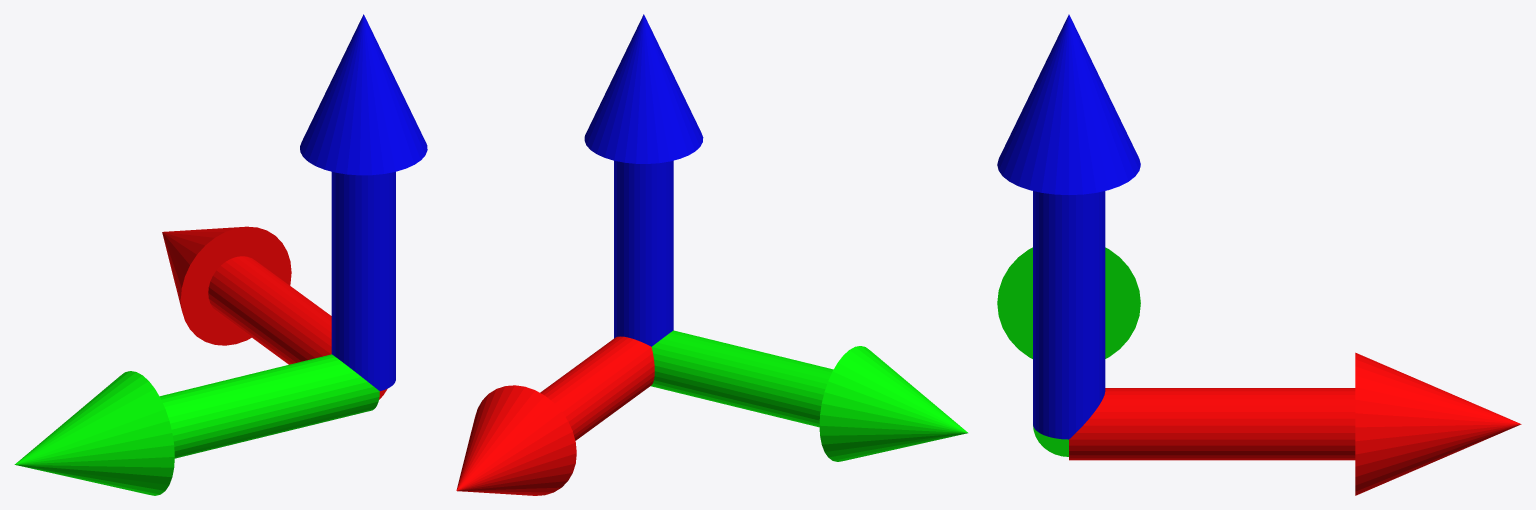
File: axis.obj
The picture shows the model from 3 angles, left to right: view 1: azimuth 30°, elevation 25°; view 2: azimuth 150°, elevation 25°; view 3: azimuth 270°, elevation 25°; orthographic projection. The views are drawn at different scales.
Visible parts, largest first — view 1: Cylinder.002_Cylinder.003; view 2: Cylinder.002_Cylinder.003; view 3: Cylinder.002_Cylinder.003.
Boxes of the visible parts, x1=… form: Cylinder.002_Cylinder.003: x1=14, y1=14, x2=427, y2=495; Cylinder.002_Cylinder.003: x1=456, y1=14, x2=967, y2=495; Cylinder.002_Cylinder.003: x1=997, y1=14, x2=1521, y2=495.
Bounding box in the file's own units: 6.59 × 6.59 × 6.59.
